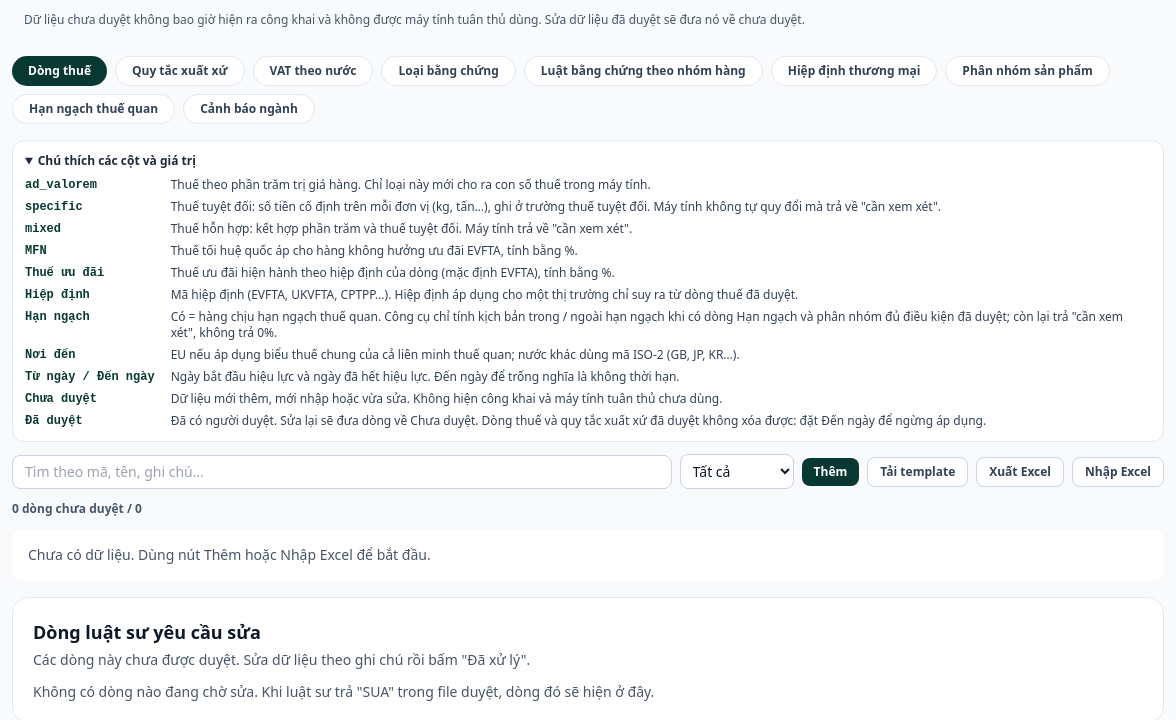
Dữ liệu tuân thủ (admin) › VAT theo nước không có nút Excel; Dòng thuế vẫn có
Check: the button "Xuất Excel" is shown, box [976,456,1064,486]
Click the tab "VAT theo nước".
click(313, 71)  # box [253,56,374,86]
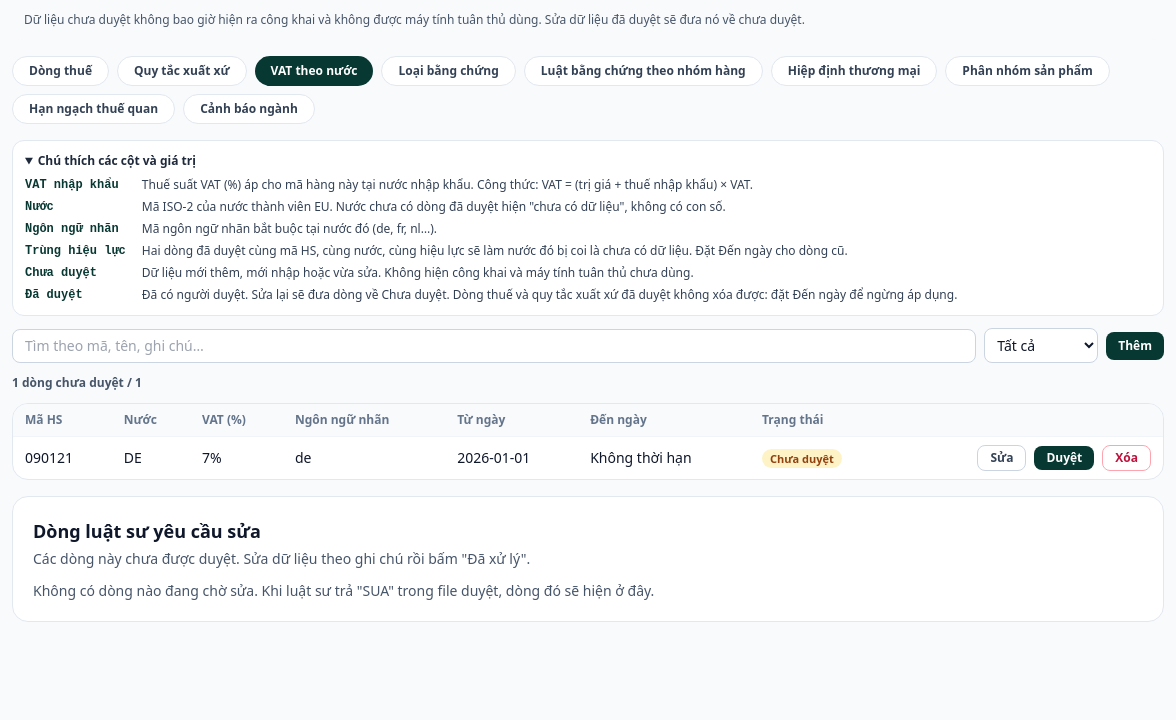
Check: the element named "VAT theo nước" is shown, box [12,140,1164,480]
Check: the button "Tải template" is gone
Check: the button "Xuất Excel" is gone
